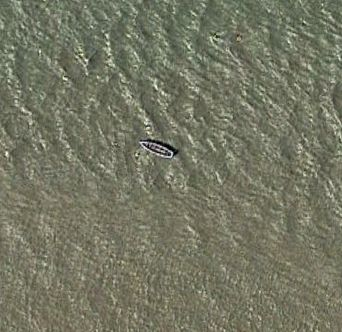boat: (137, 138, 176, 161)
